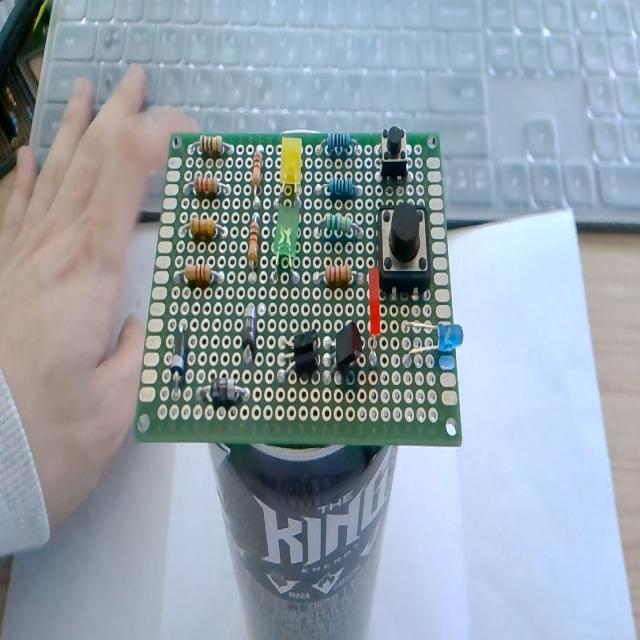diode: (235, 296, 262, 367), (170, 316, 194, 391), (193, 378, 255, 407)
led: (399, 302, 467, 375), (270, 201, 301, 288), (364, 265, 386, 364), (277, 135, 305, 206)
resistor: (175, 206, 233, 247), (312, 258, 373, 292), (307, 209, 363, 242), (173, 254, 226, 288), (183, 130, 239, 162), (245, 144, 272, 208), (177, 171, 231, 201), (242, 210, 263, 284), (314, 172, 362, 201), (317, 133, 361, 160)
switch: (375, 202, 432, 304), (377, 128, 417, 190)
transistor: (273, 323, 321, 402), (320, 320, 360, 400)
